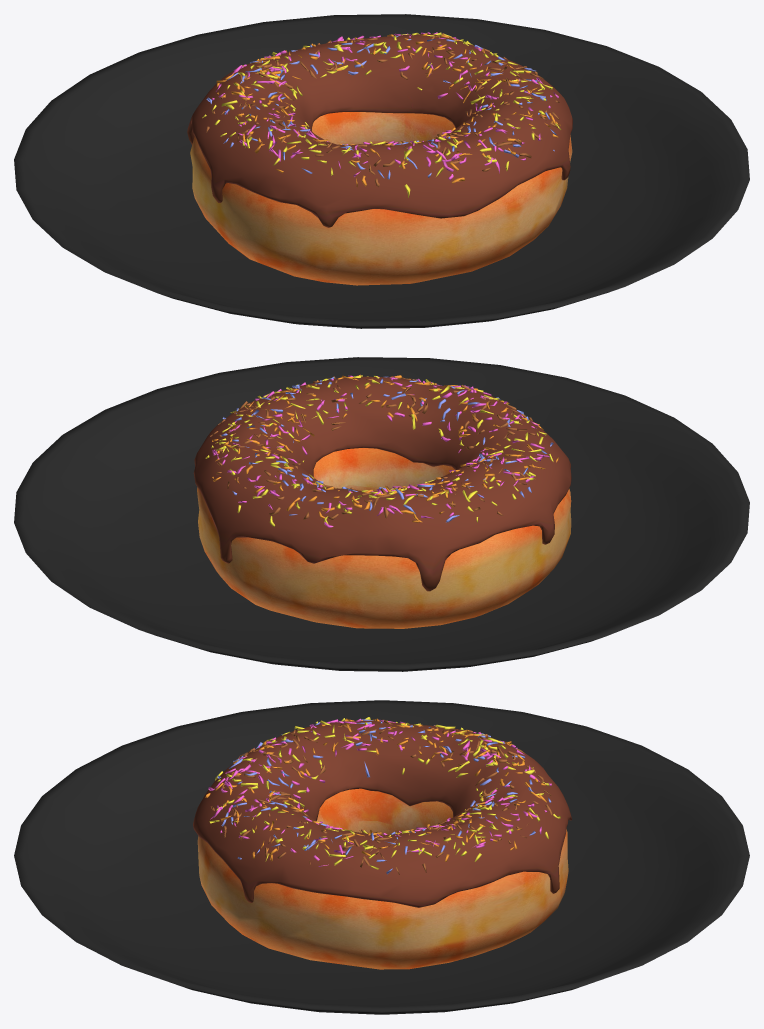
The model's file is donut.glb.
3 views of the same model, one above another, from view 1: azimuth 30°, elevation 25°; view 2: azimuth 150°, elevation 25°; view 3: azimuth 270°, elevation 25° (orthographic).
Parts seen in each view (by area): view 1: Plate, Es, Donat, Sprinkles_Baked; view 2: Plate, Es, Donat, Sprinkles_Baked; view 3: Plate, Es, Donat, Sprinkles_Baked.
Boxes of the visible parts, <box> form: Plate: <box>14,14,749,328</box>; Es: <box>187,34,572,227</box>; Donat: <box>190,112,572,285</box>; Sprinkles_Baked: <box>202,32,561,197</box>; Plate: <box>14,357,749,671</box>; Es: <box>193,376,571,591</box>; Donat: <box>197,448,571,628</box>; Sprinkles_Baked: <box>205,374,558,527</box>; Plate: <box>14,700,749,1014</box>; Es: <box>193,720,571,907</box>; Donat: <box>197,788,568,969</box>; Sprinkles_Baked: <box>205,717,560,874</box>.
Size of the model in its own units: 0.2833 by 0.0607 by 0.2833.
4 materials, 2 textured.
